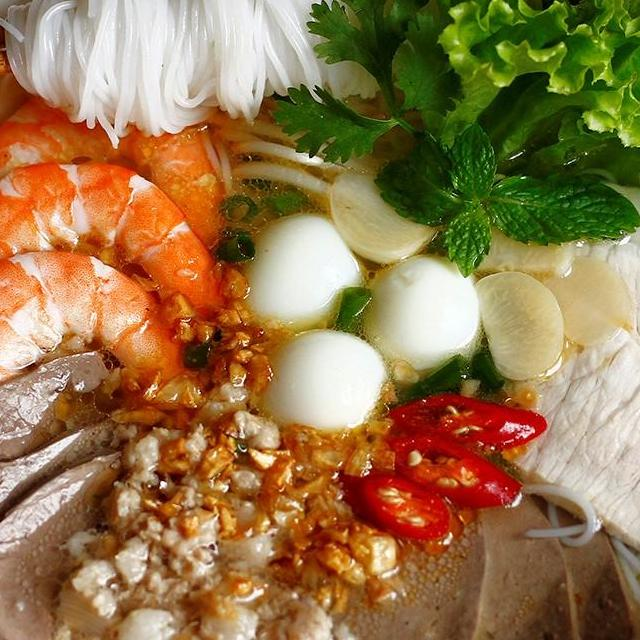banh hu tieu: (0, 0, 523, 154)
gan: (423, 452, 595, 640), (320, 463, 499, 640), (510, 469, 640, 640)
hu tieu: (0, 0, 640, 640), (509, 476, 640, 639)
thit bam: (44, 369, 363, 640)
thit heo: (479, 312, 640, 589), (534, 224, 640, 456), (579, 164, 640, 358)
tom: (0, 152, 237, 366), (0, 80, 235, 284), (0, 240, 203, 453)
trung: (238, 204, 372, 358), (352, 246, 492, 392), (253, 321, 392, 444)
